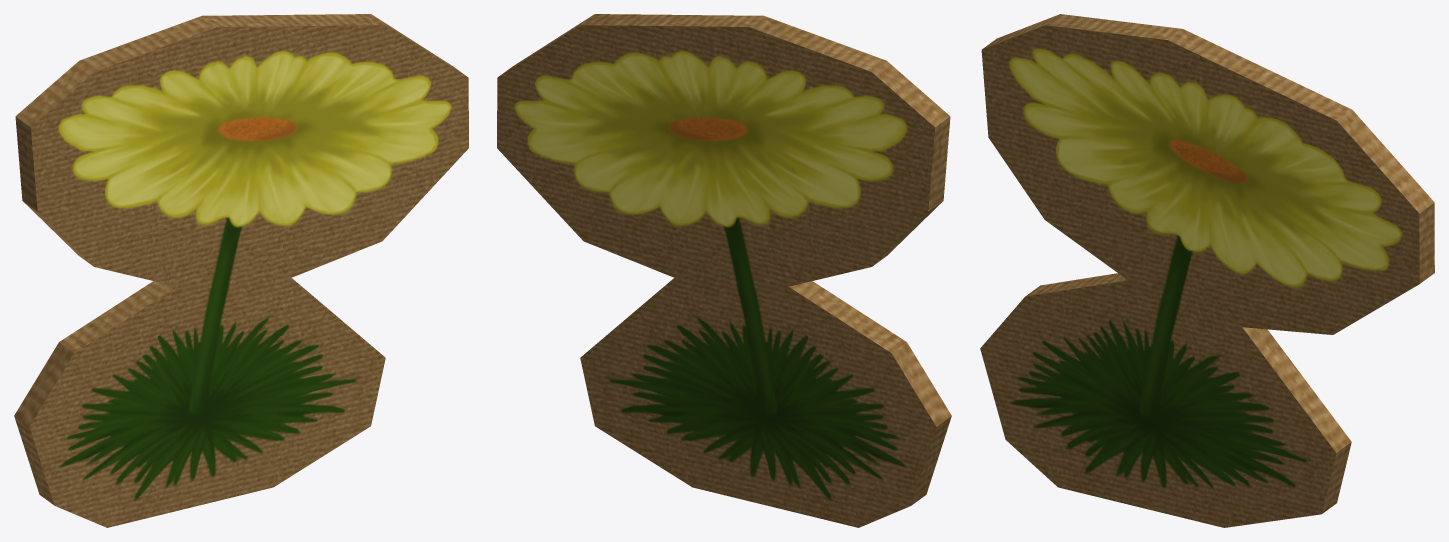
The model's file is Asset_Flower_Yellow.fbx.
The picture shows the model from 3 angles, left to right: view 1: azimuth 30°, elevation 25°; view 2: azimuth 150°, elevation 25°; view 3: azimuth 330°, elevation 25°; orthographic projection.
Parts seen in each view (by area): view 1: Asset_Flower_Yellow_01; view 2: Asset_Flower_Yellow_01; view 3: Asset_Flower_Yellow_01.
Part boxes in pixels (bbox=[...]): Asset_Flower_Yellow_01: bbox=[14, 14, 468, 527]; Asset_Flower_Yellow_01: bbox=[497, 14, 951, 527]; Asset_Flower_Yellow_01: bbox=[980, 14, 1434, 527].
Bounding box in the file's own units: 0.5493 × 0.5663 × 0.0331.
